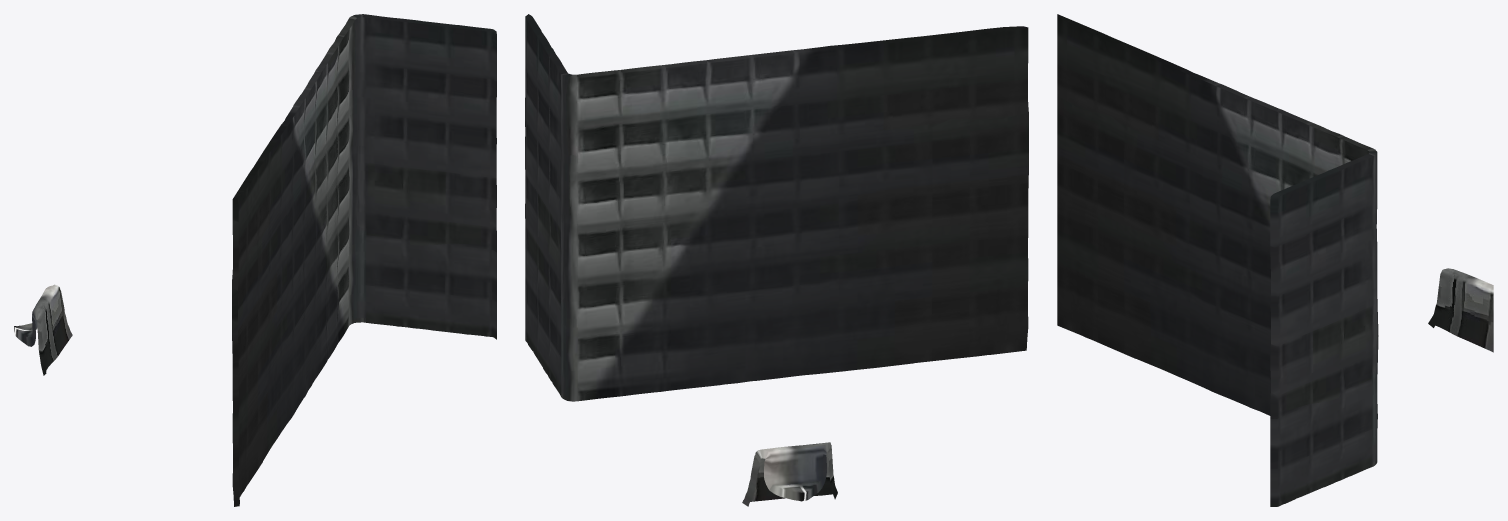
File: z20-167776-405236-h1-yup-uvflip-v3-world.glb
The picture shows the model from 3 angles, left to right: view 1: azimuth 30°, elevation 25°; view 2: azimuth 150°, elevation 25°; view 3: azimuth 270°, elevation 25°; orthographic projection. The views are drawn at different scales.
Size of the model in its own units: 30.16 by 24.2 by 30.32.
Materials: 1 (1 with a texture image).
